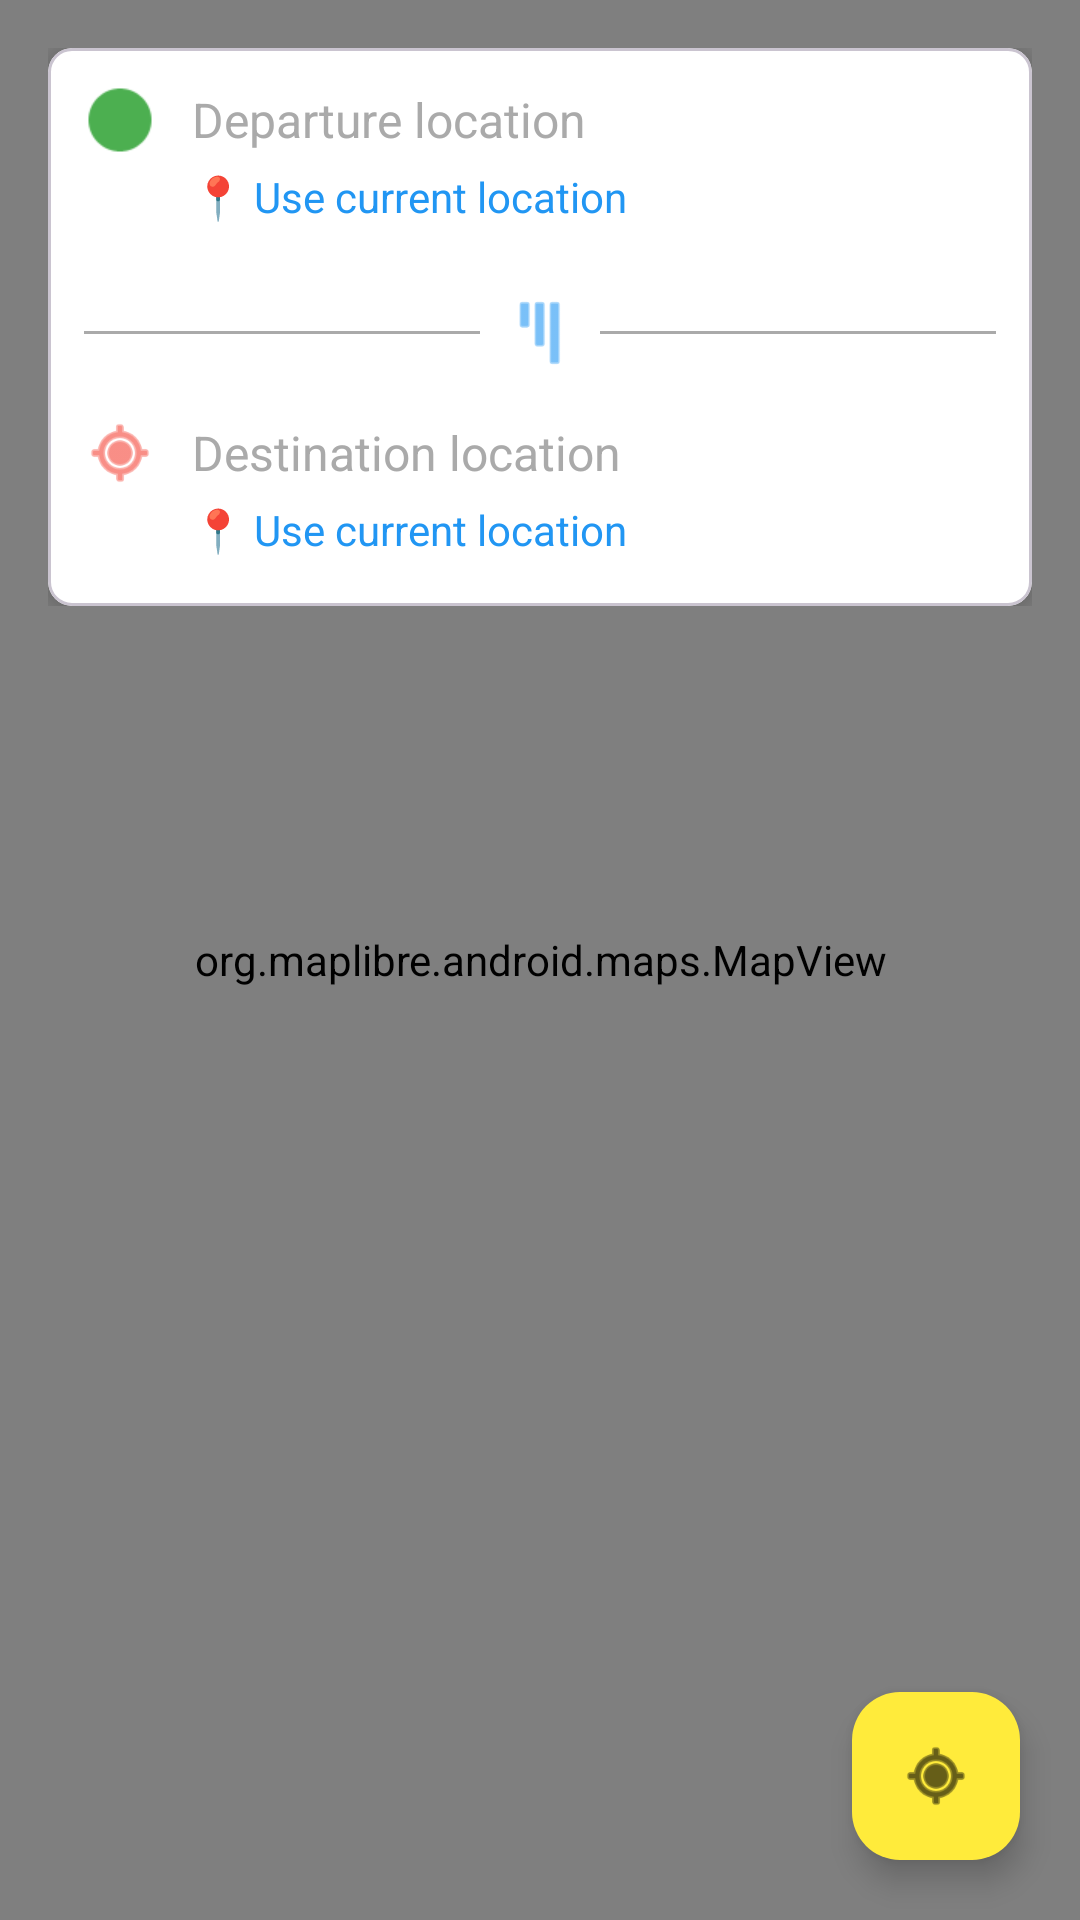

Screen size 1080*1920. Icon name, then its center in pixels as point (x, y):
Recenter map: point (936, 1776)
